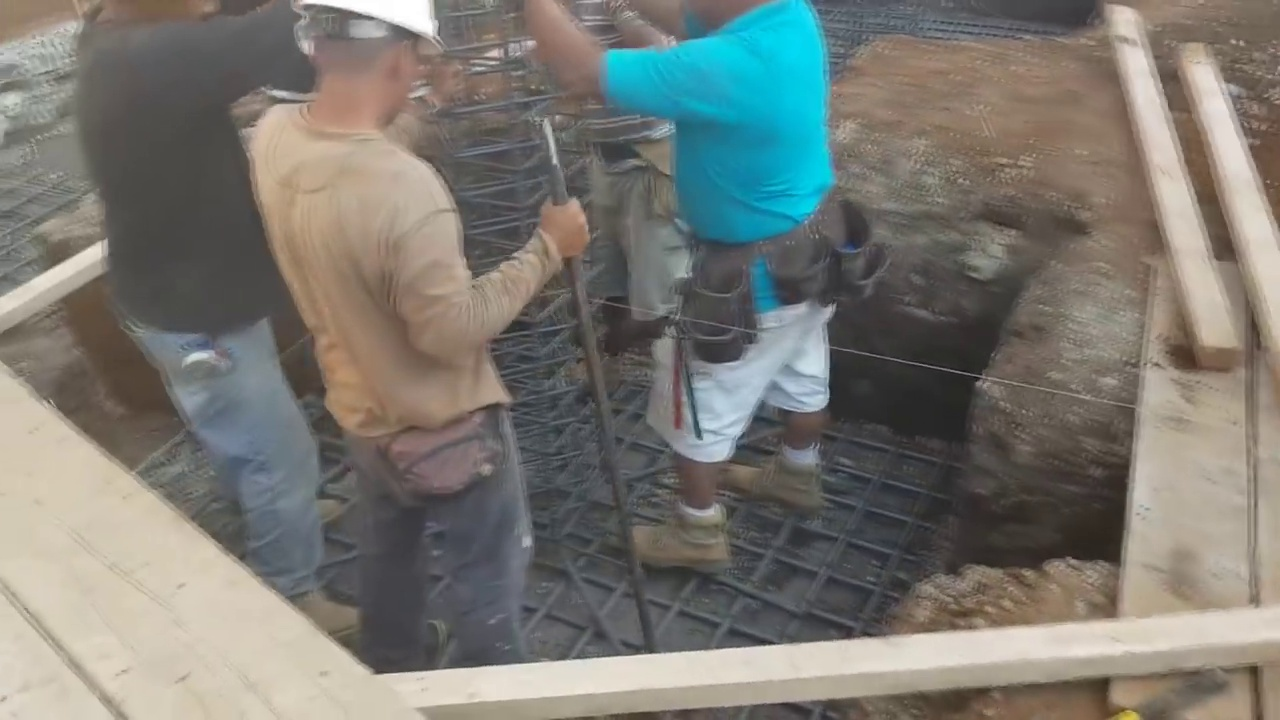helmet: (310, 0, 449, 51)
helmet-on: (267, 0, 453, 132)
person: (236, 0, 596, 666), (550, 0, 853, 568), (69, 0, 364, 583)
